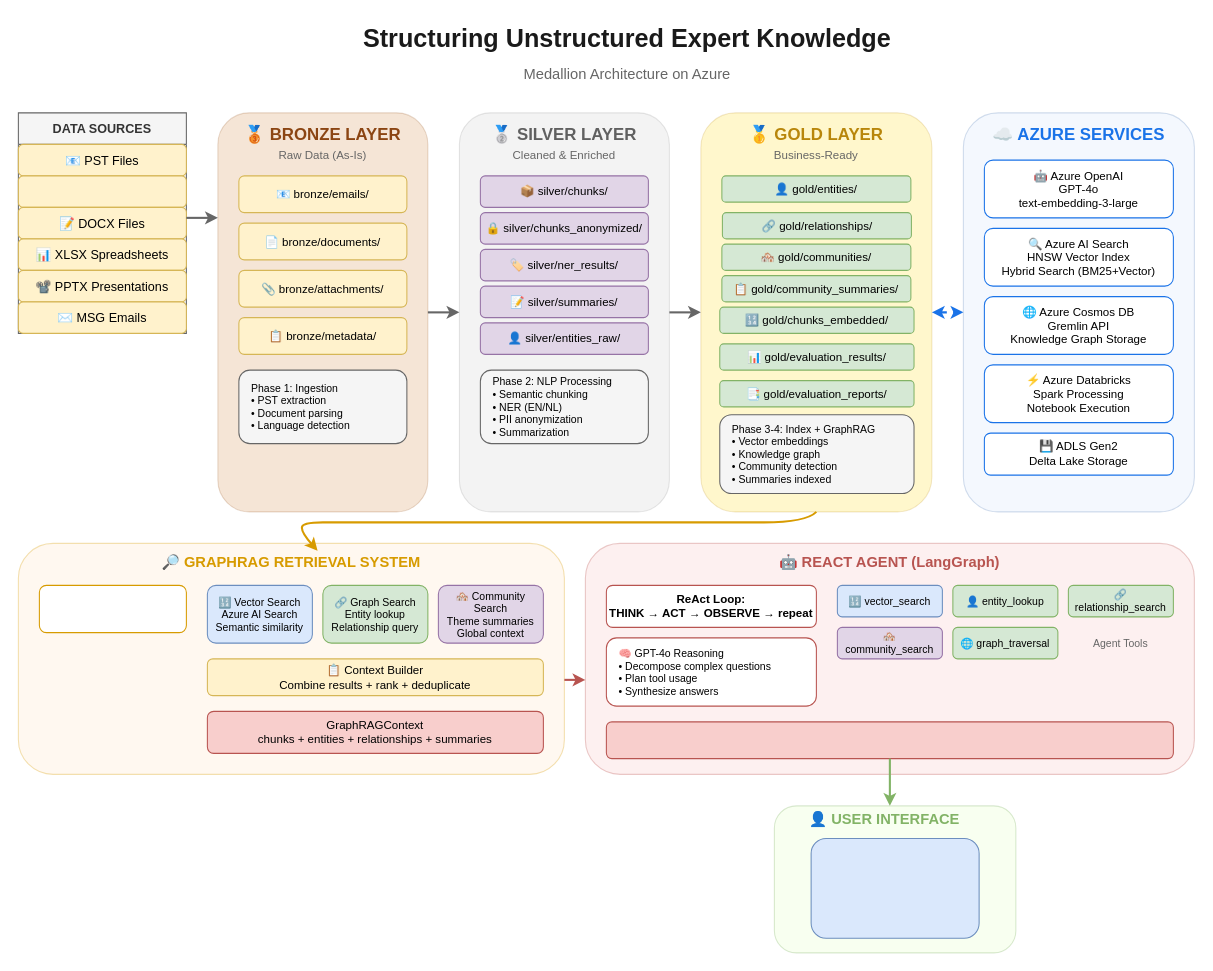
Image size: 1213x971. Some labels were removed from this diagram. The centre of each missing label's shape, as x and y in pixels:
Answer + Sources + Reasoning Trace: (x=889, y=740)
Query Classifier LOCAL | GLOBAL | HYBRID: (x=112, y=608)
💬 Chat Interface Natural Language Queries "Who worked on Project X?": (x=894, y=887)
📄 PDF Documents: (x=101, y=191)
